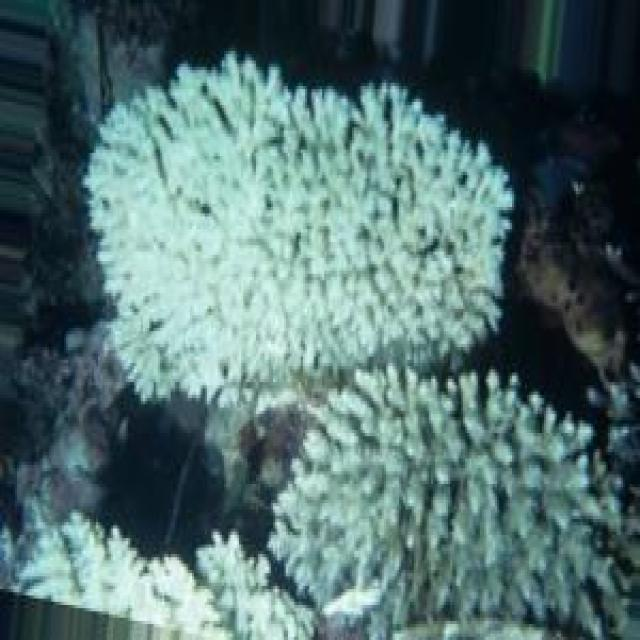bleached coral: (86, 54, 512, 410), (270, 366, 595, 637), (15, 502, 313, 638)
